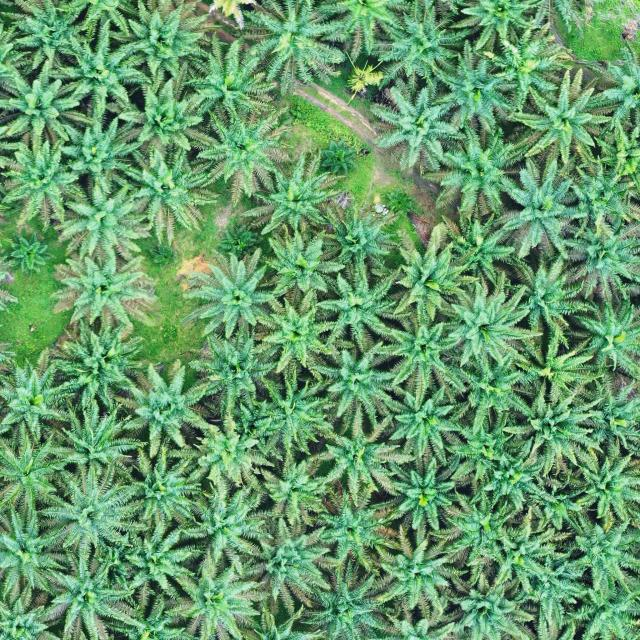Tree: (33, 453, 151, 568), (41, 15, 158, 123), (308, 400, 422, 510), (502, 69, 620, 175), (229, 0, 352, 95), (420, 118, 530, 219), (192, 104, 296, 209), (174, 27, 280, 129), (484, 152, 586, 257), (235, 140, 348, 234), (444, 270, 548, 372), (496, 381, 607, 476), (33, 547, 146, 640), (119, 144, 221, 247), (424, 34, 520, 140), (46, 180, 159, 268), (169, 546, 274, 640), (373, 522, 475, 618), (370, 73, 464, 177), (48, 246, 159, 334), (120, 356, 213, 461), (111, 61, 210, 159), (48, 316, 150, 411), (248, 514, 344, 614), (291, 554, 402, 640), (178, 248, 280, 340), (389, 223, 483, 322), (433, 480, 529, 576), (252, 284, 350, 378), (184, 326, 286, 416), (108, 0, 220, 81), (0, 56, 94, 151), (0, 136, 89, 236), (53, 108, 147, 202), (363, 1, 472, 81), (250, 366, 344, 458), (378, 447, 475, 536), (476, 512, 574, 598), (437, 560, 541, 640), (0, 339, 79, 443), (0, 507, 80, 609), (313, 485, 403, 575), (386, 374, 474, 466), (177, 475, 271, 561), (115, 514, 201, 608), (376, 302, 466, 390), (313, 338, 401, 428), (0, 0, 103, 75), (54, 397, 150, 476), (510, 326, 609, 402), (512, 249, 588, 348), (464, 439, 559, 518), (313, 266, 402, 350), (432, 200, 519, 285), (191, 409, 279, 493), (128, 440, 208, 530), (564, 212, 640, 306), (481, 27, 576, 102), (559, 512, 640, 596), (252, 445, 332, 530), (261, 220, 345, 300), (0, 428, 69, 524), (314, 198, 401, 274), (564, 440, 638, 528), (442, 410, 522, 483), (574, 295, 640, 383), (561, 154, 637, 227), (564, 572, 640, 640), (448, 0, 539, 55), (454, 350, 524, 421)
